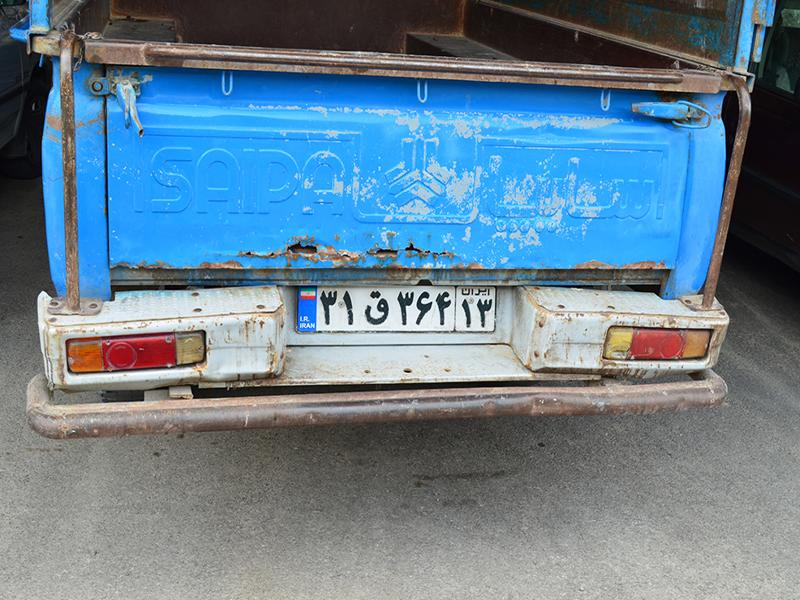Plate: (297, 285, 497, 337)
